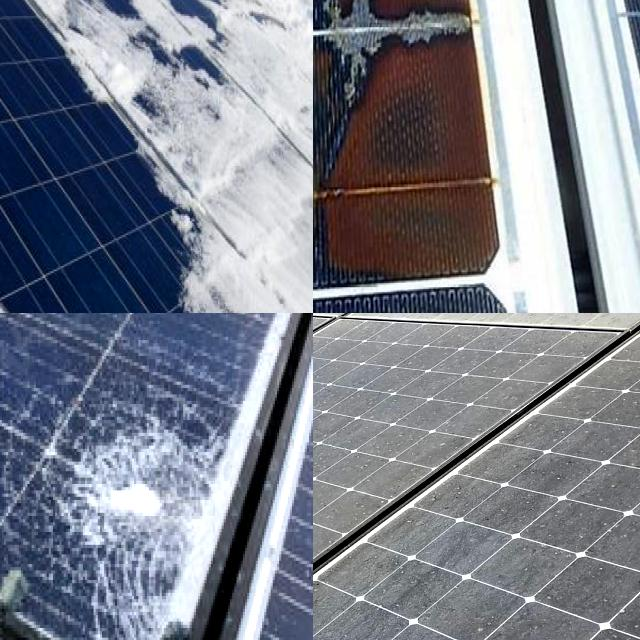dust: (469, 453, 640, 640), (313, 400, 397, 582), (371, 335, 504, 442), (339, 515, 443, 640), (446, 313, 640, 361), (313, 318, 381, 425), (313, 585, 380, 640), (313, 313, 398, 354), (313, 313, 419, 341)
hotspot: (50, 373, 230, 626)
panel: (152, 123, 312, 313), (112, 0, 295, 114), (0, 45, 13, 313)
shadow: (313, 0, 503, 295)
